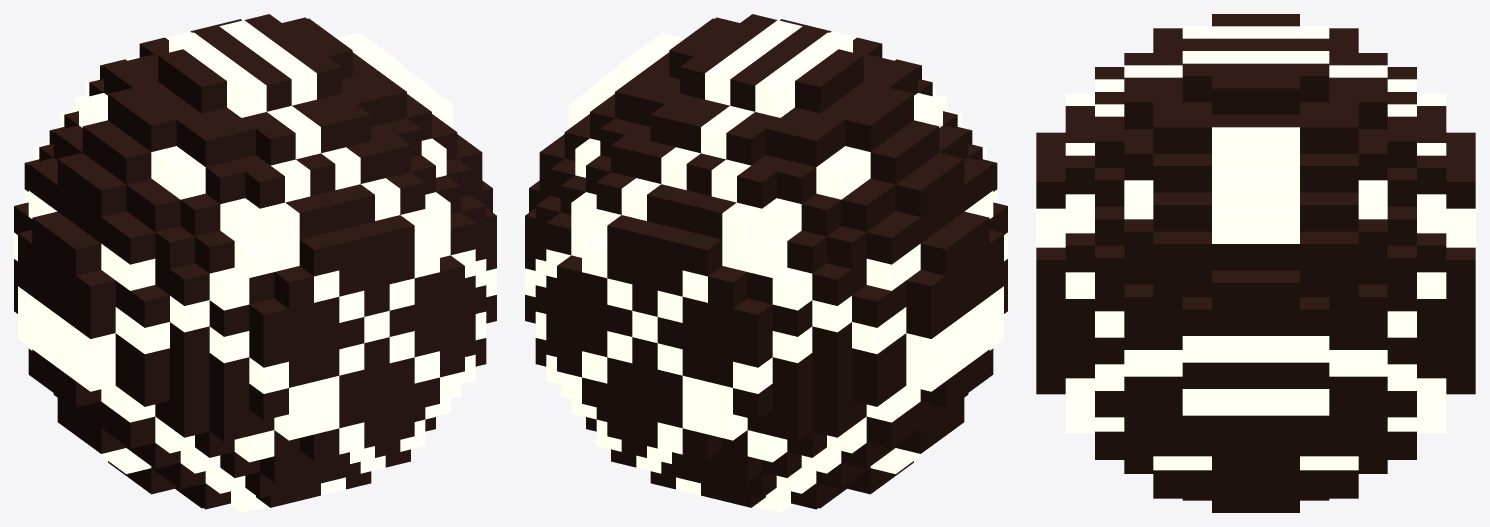
The model's file is titan_magma_core.glb.
The picture shows the model from 3 angles, left to right: view 1: azimuth 30°, elevation 25°; view 2: azimuth 150°, elevation 25°; view 3: azimuth 270°, elevation 25°; orthographic projection.
Parts seen in each view (by area): view 1: titan_magma_core; view 2: titan_magma_core; view 3: titan_magma_core.
Part boxes in pixels (left/top/right/bottom): titan_magma_core: left=14, top=14, right=496, bottom=512; titan_magma_core: left=525, top=14, right=1007, bottom=512; titan_magma_core: left=1036, top=14, right=1475, bottom=512.
Size of the model in its own units: 0.32 by 0.32 by 0.3.
